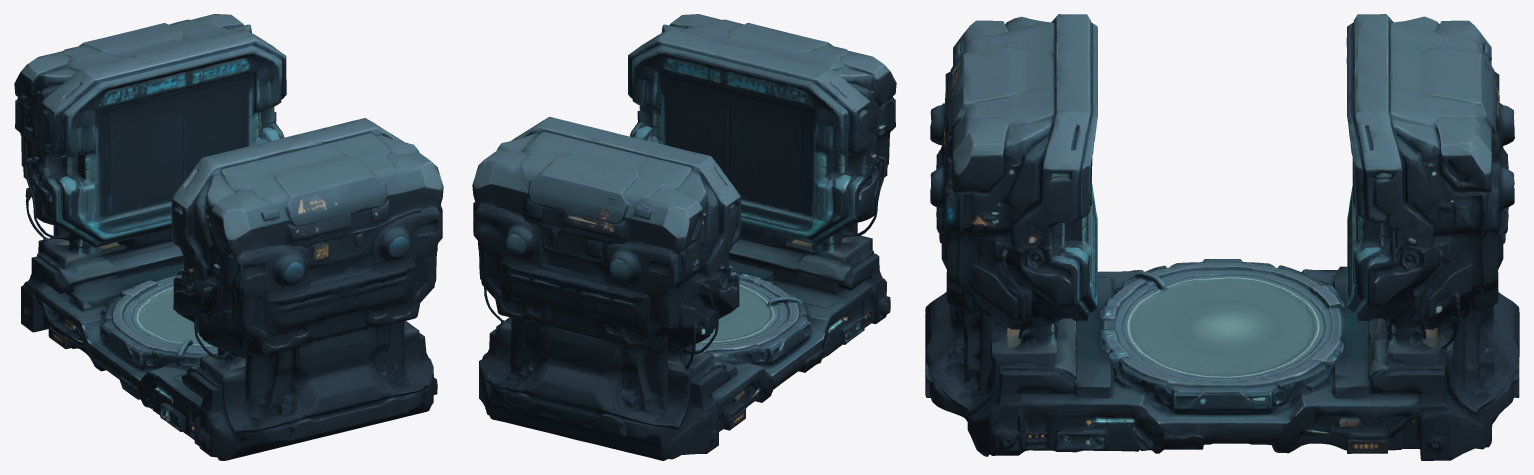
File: 3dmodelstonehanger.fbx
3 renders of one model, left to right at view 1: azimuth 30°, elevation 25°; view 2: azimuth 150°, elevation 25°; view 3: azimuth 270°, elevation 25°, orthographic. The views are drawn at different scales.
Parts seen in each view (by area): view 1: tripo_node_b0b7ea97; view 2: tripo_node_b0b7ea97; view 3: tripo_node_b0b7ea97.
Part boxes in pixels (left/top/right/bottom): tripo_node_b0b7ea97: left=14, top=14, right=443, bottom=460; tripo_node_b0b7ea97: left=472, top=14, right=896, bottom=460; tripo_node_b0b7ea97: left=925, top=14, right=1519, bottom=460.
Size of the model in its own units: 0.572 by 0.6167 by 1.
Materials: 1 (1 with a texture image).
